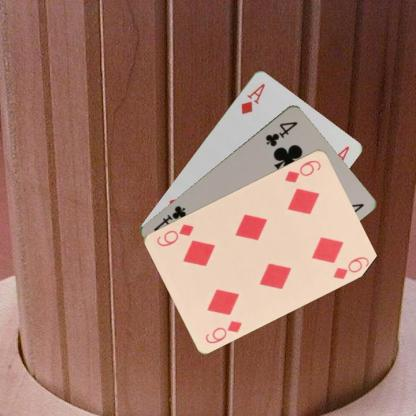4c: (263, 118, 299, 148)
6d: (282, 156, 323, 184), (202, 317, 243, 345)
Ad: (238, 80, 266, 116)
